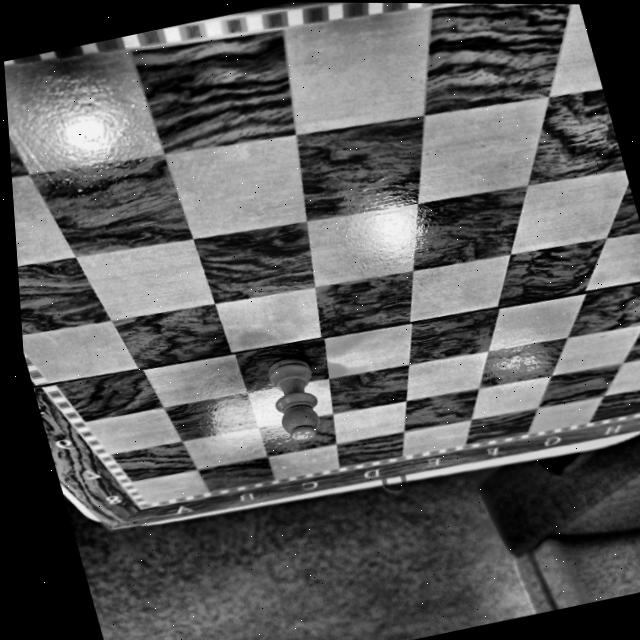white-bishop: (267, 358, 319, 440)
